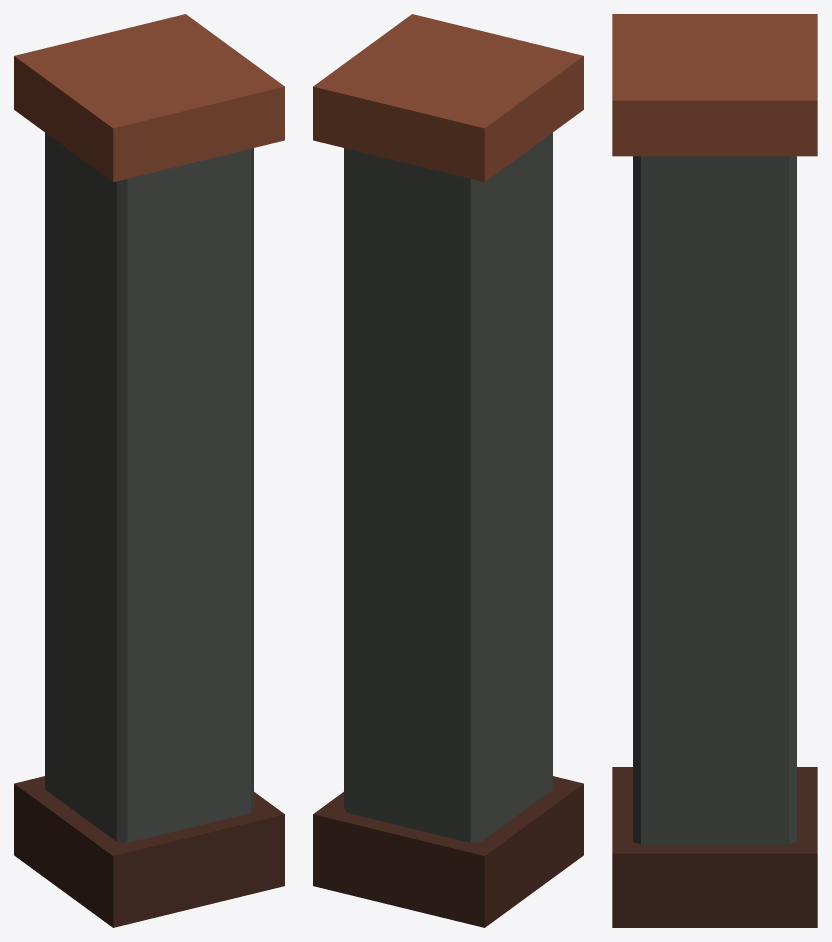
The model's file is kit_pillar.glb.
3 renders of one model, left to right at view 1: azimuth 30°, elevation 25°; view 2: azimuth 150°, elevation 25°; view 3: azimuth 270°, elevation 25°, orthographic. The views are drawn at different scales.
Visible parts, largest first — view 1: pillar, head, base; view 2: pillar, head, base; view 3: pillar, head, base.
Part boxes in pixels (box(x1,y1,x2,y2)): pillar: box(45, 132, 253, 842); head: box(14, 14, 284, 182); base: box(14, 776, 284, 927); pillar: box(344, 132, 552, 842); head: box(313, 14, 583, 182); base: box(313, 776, 583, 927); pillar: box(633, 156, 796, 844); head: box(612, 14, 817, 156); base: box(612, 767, 817, 927).
Size of the model in its own units: 0.5 by 2.23 by 0.5.
